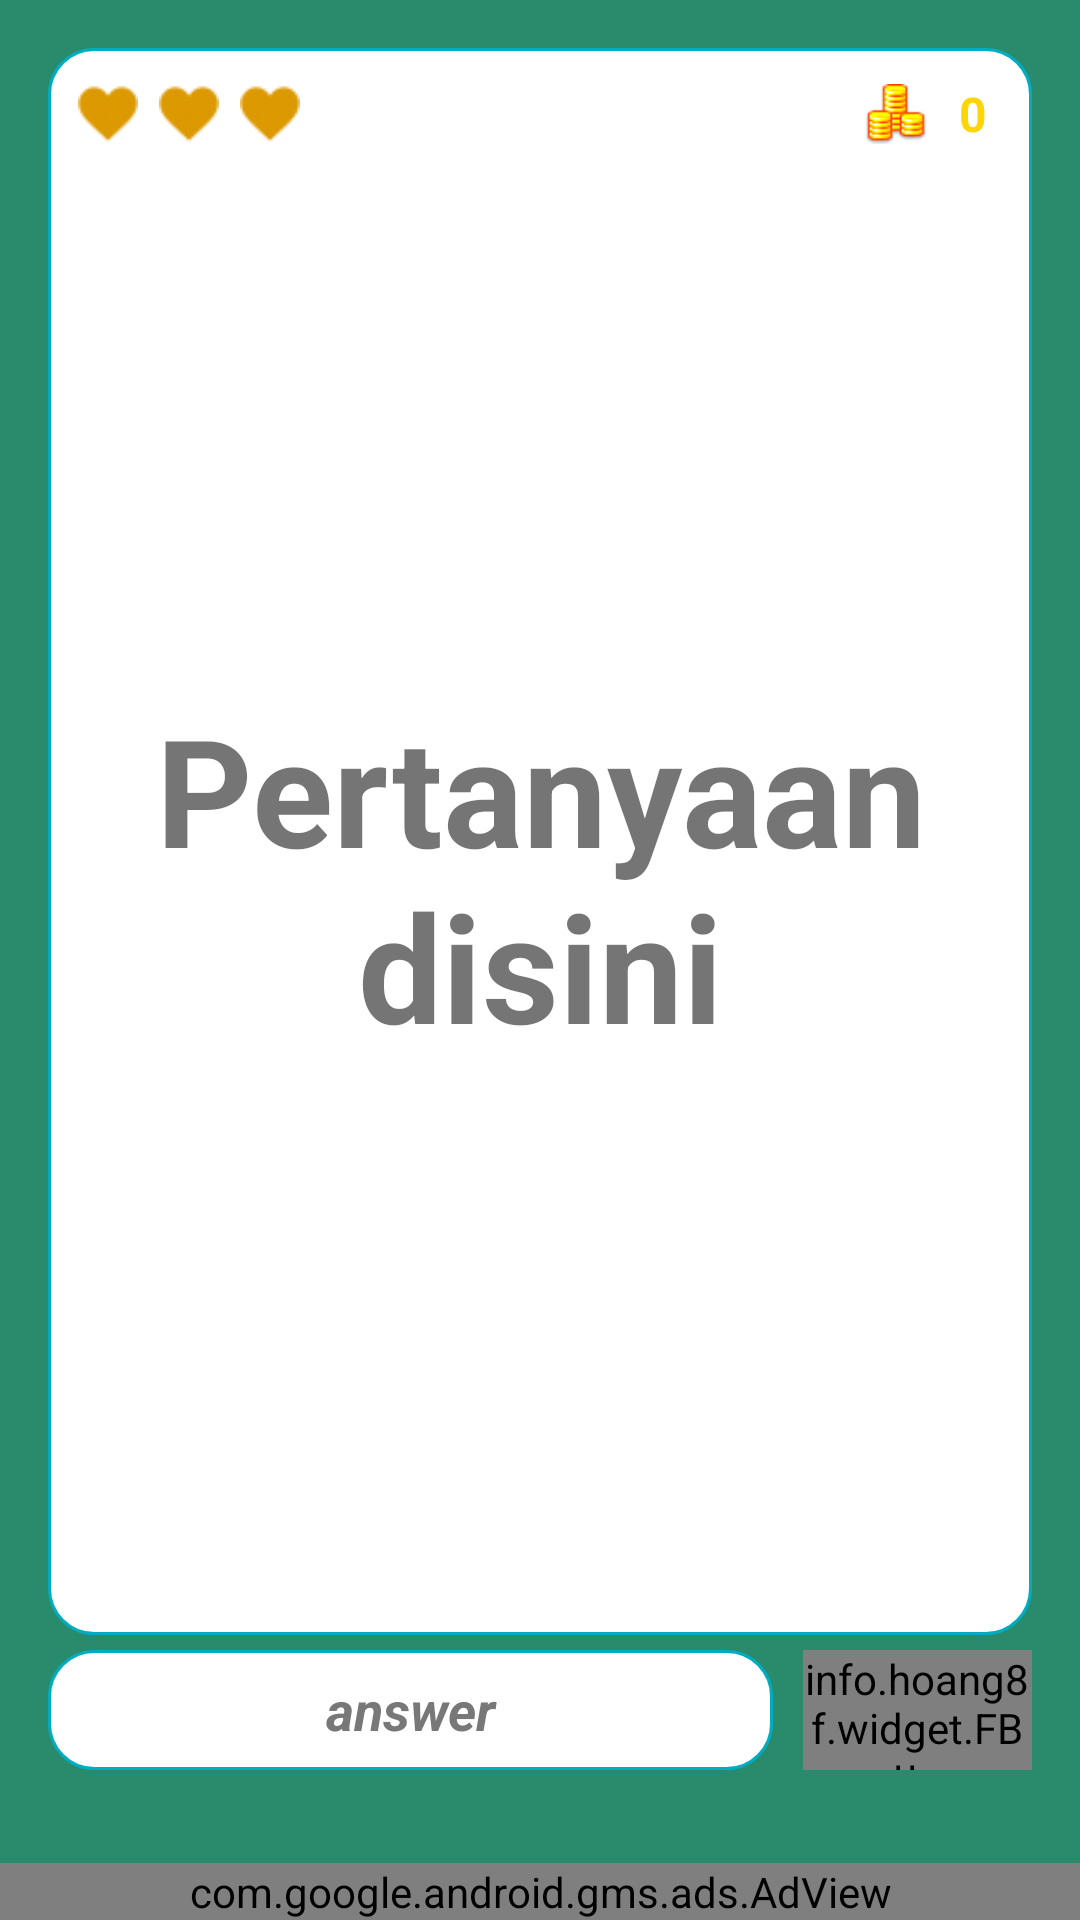

Named icons in this screenshot (1080x1920) and their centers, [x,y]:
coins: [896,113]
